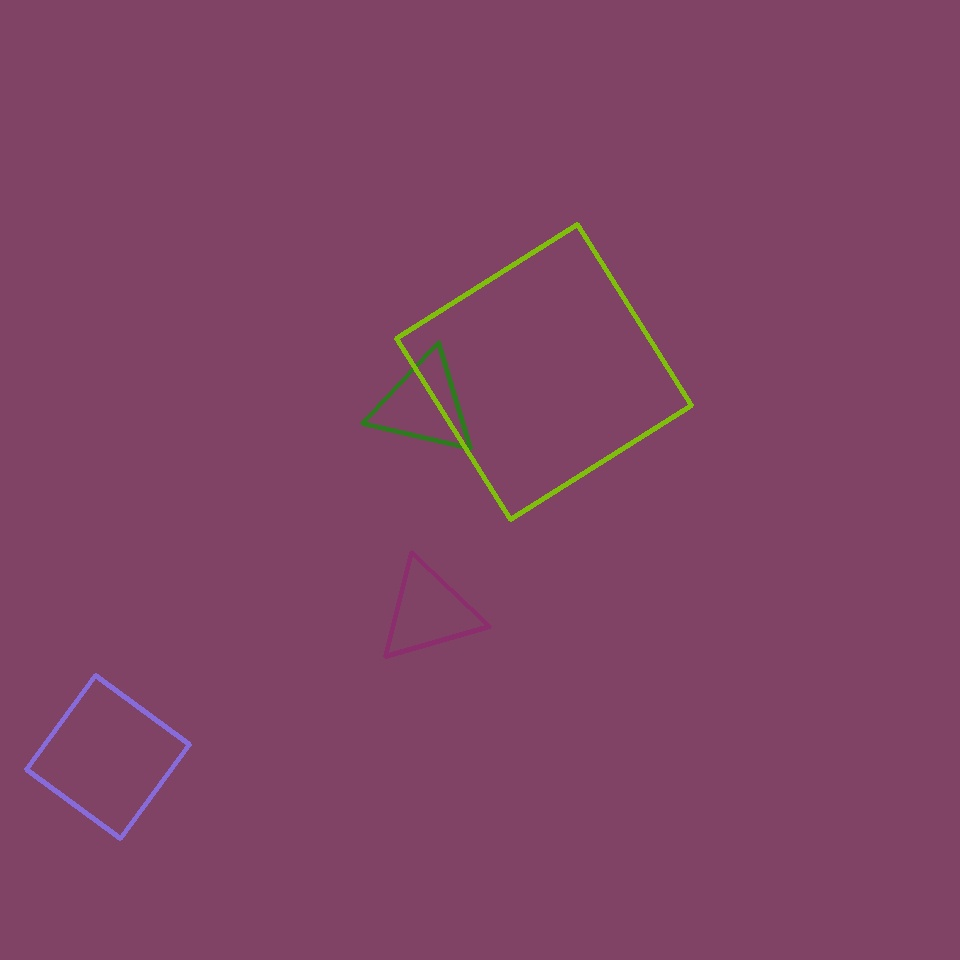circle: (370, 352, 478, 458), (377, 560, 481, 664)
square: (396, 224, 692, 520), (26, 676, 190, 839)
